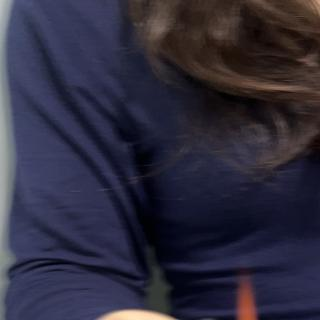fire: (236, 278, 260, 320)
